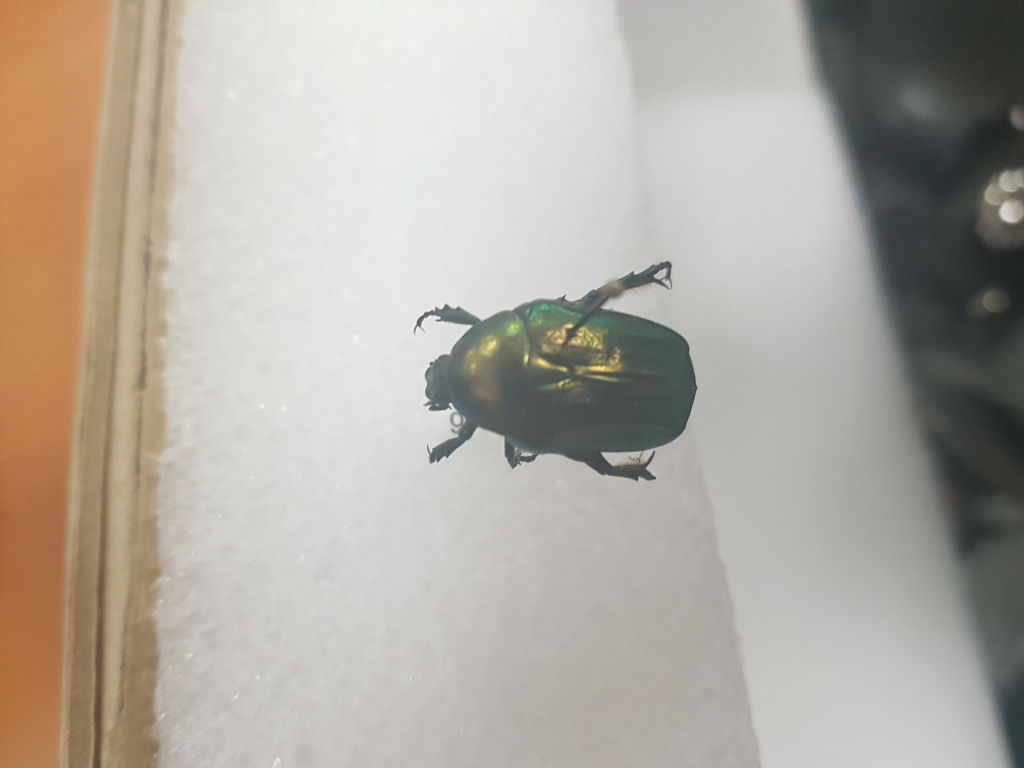Cetonia_aurata: (414, 253, 706, 491)
